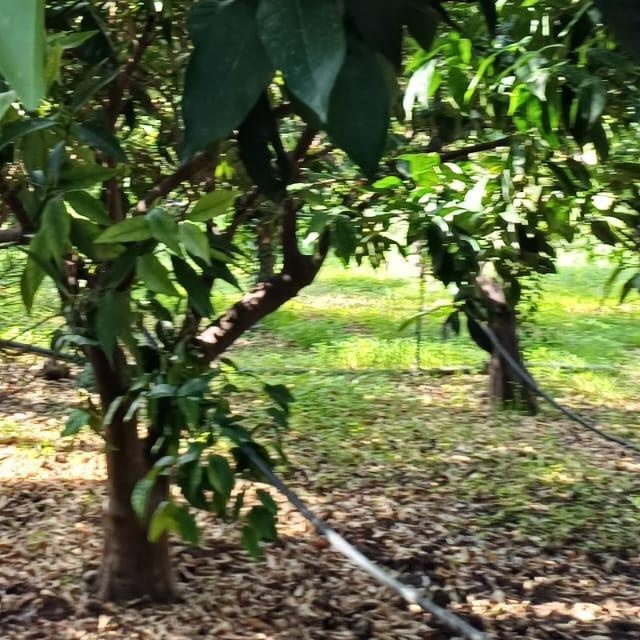orange: (0, 0, 9, 4)
